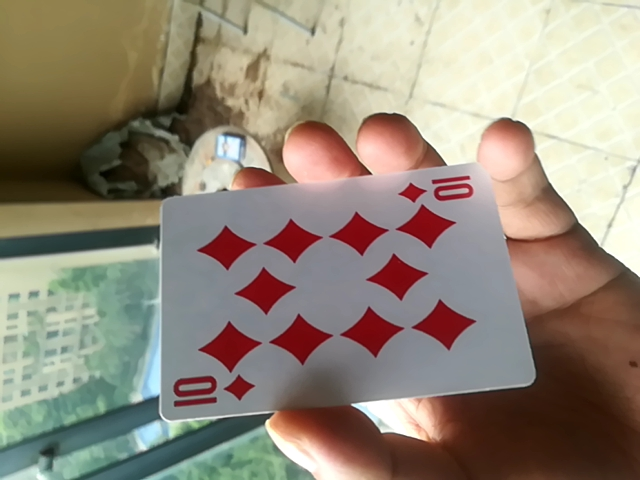fk 10: (149, 155, 527, 425)
